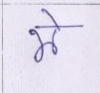e_matra: (41, 8, 61, 25)
